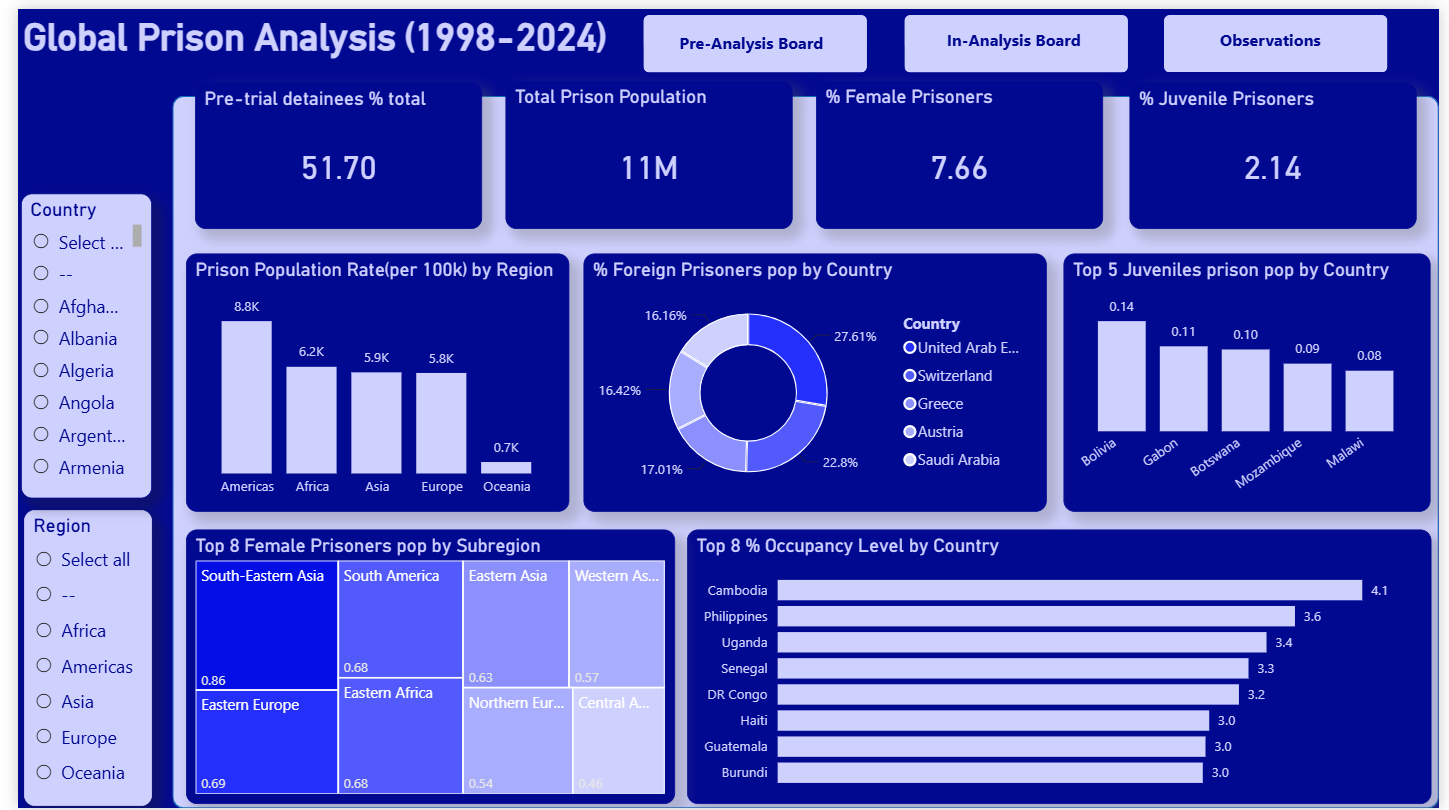

The page's visual inventory and layout, read from the dashboard file:
{"tool":"powerbi","page":{"name":"Dashboard","canvas":[1280,720],"ordinal":0},"visuals":[{"type":"shape","box":[138.7,78.9,1140.8,641.8],"z":0},{"type":"clusteredColumnChart","title":"Prison Population Rate(per 100k) by Region","fields":{"Category":["WPB Data.Region"],"Y":["Sum(WPB Data.Prison Population Rate(per 100k))"]},"box":[150.9,220.3,345.4,232.5],"z":1000},{"type":"clusteredBarChart","title":"Top 8 % Occupancy Level by Country","fields":{"Category":["WPB Data.Country"],"Y":["Sum(WPB Data.Occupancy Level(% of official capacity))"]},"box":[602.4,469.1,670.3,247.5],"z":2000},{"type":"treemap","title":"Top 8 Female Prisoners pop by Subregion","fields":{"Group":["WPB Data.Subregion"],"Values":["Sum(WPB Data.Female Prisoners(% of prison pop))"]},"box":[150.9,469.1,440.5,247.5],"z":3000},{"type":"clusteredColumnChart","title":"Top 5 Juveniles prison pop by Country","fields":{"Y":["Sum(WPB Data.Juveniles(% of prison pop))"],"Category":["WPB Data.Country"]},"box":[942.3,220.3,330.4,232.5],"z":4000},{"type":"card","title":"Pre-trial detainees % total","fields":{"Values":["Prison data.Pre-trial detainees total"]},"box":[159.1,66.6,258.3,131.9],"z":5000},{"type":"card","title":"Total Prison Population","fields":{"Values":["Sum(WPB Data.Prison Population Total)"]},"box":[439.2,65.3,258.3,133.3],"z":6000},{"type":"card","title":"% Female Prisoners","fields":{"Values":["Sum(WPB Data.Female Prisoners(% of prison pop))"]},"box":[719.3,65.3,258.3,133.3],"z":7000},{"type":"card","title":"% Juvenile Prisoners","fields":{"Values":["Prison data.Total Juvinile prisoners"]},"box":[1000.7,66.6,258.3,131.9],"z":8000},{"type":"donutChart","title":"% Foreign Prisoners pop by Country","fields":{"Category":["WPB Data.Country"],"Y":["Sum(WPB Data.Foreign Prisoners(% of prison pop))"]},"box":[509.9,220.3,417.4,232.5],"z":9000},{"type":"textbox","box":[0,0,542.5,62.5],"z":10000},{"type":"listSlicer","fields":{"Values":["WPB Data.Region"]},"box":[5.4,451.4,115.6,266.5],"z":11000},{"type":"shape","box":[562.9,5.4,201.2,51.7],"z":12000},{"type":"shape","box":[798.2,5.4,201.2,51.7],"z":13000},{"type":"shape","box":[1032,5.4,201.2,51.7],"z":14000},{"type":"textbox","box":[580.6,15,159.1,40.8],"z":15000},{"type":"textbox","box":[817.2,12.2,159.1,40.8],"z":16000},{"type":"textbox","box":[1048.3,12.2,159.1,40.8],"z":17000},{"type":"listSlicer","fields":{"Values":["WPB Data.Country"]},"box":[2.7,165.9,118.3,274.7],"z":18000}]}

Visuals, with their boxes in screenshot pixels (x1, y1, x2, y2), scaled from the page's 1280x720 canvas onto the 1449x810 screenshot:
shape: rect(157, 89, 1448, 809)
"Prison Population Rate(per 100k) by Region" clusteredColumnChart: rect(171, 248, 562, 509)
"Top 8 % Occupancy Level by Country" clusteredBarChart: rect(682, 528, 1441, 806)
"Top 8 Female Prisoners pop by Subregion" treemap: rect(171, 528, 669, 806)
"Top 5 Juveniles prison pop by Country" clusteredColumnChart: rect(1067, 248, 1441, 509)
"Pre-trial detainees % total" card: rect(180, 75, 473, 223)
"Total Prison Population" card: rect(497, 73, 790, 223)
"% Female Prisoners" card: rect(814, 73, 1107, 223)
"% Juvenile Prisoners" card: rect(1133, 75, 1425, 223)
"% Foreign Prisoners pop by Country" donutChart: rect(577, 248, 1050, 509)
textbox: rect(0, 0, 614, 70)
listSlicer - WPB Data.Region: rect(6, 508, 137, 808)
shape: rect(637, 6, 865, 64)
shape: rect(904, 6, 1131, 64)
shape: rect(1168, 6, 1396, 64)
textbox: rect(657, 17, 837, 63)
textbox: rect(925, 14, 1105, 60)
textbox: rect(1187, 14, 1367, 60)
listSlicer - WPB Data.Country: rect(3, 187, 137, 496)
